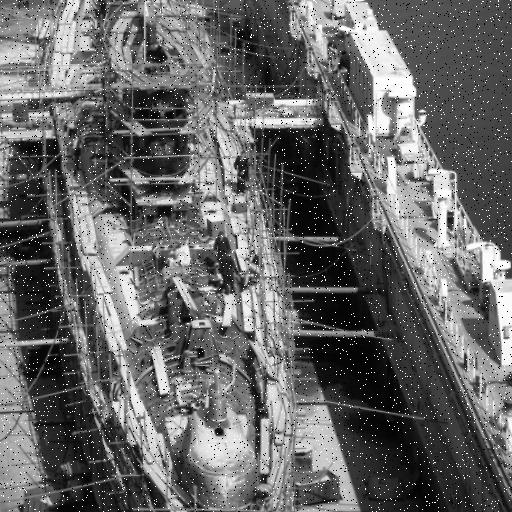submarine: (42, 1, 333, 512)
